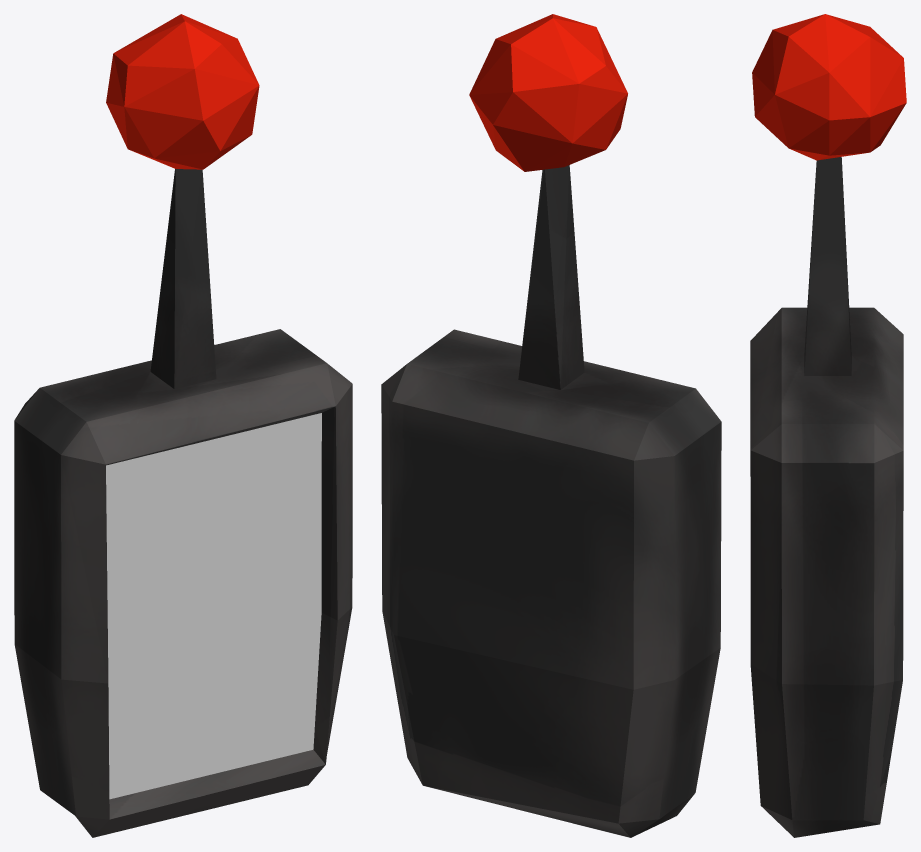
File: Translator.fbx
3 renders of one model, left to right at view 1: azimuth 30°, elevation 25°; view 2: azimuth 150°, elevation 25°; view 3: azimuth 270°, elevation 25°, orthographic.
Parts seen in each view (by area): view 1: Translator; view 2: Translator; view 3: Translator.
Part boxes in pixels (left/top/right/bottom): Translator: left=14, top=14, right=352, bottom=837; Translator: left=381, top=14, right=721, bottom=837; Translator: left=750, top=14, right=906, bottom=837.
Bounding box in the file's own units: 12.87 × 32.83 × 6.04.
3 materials, 1 textured.
